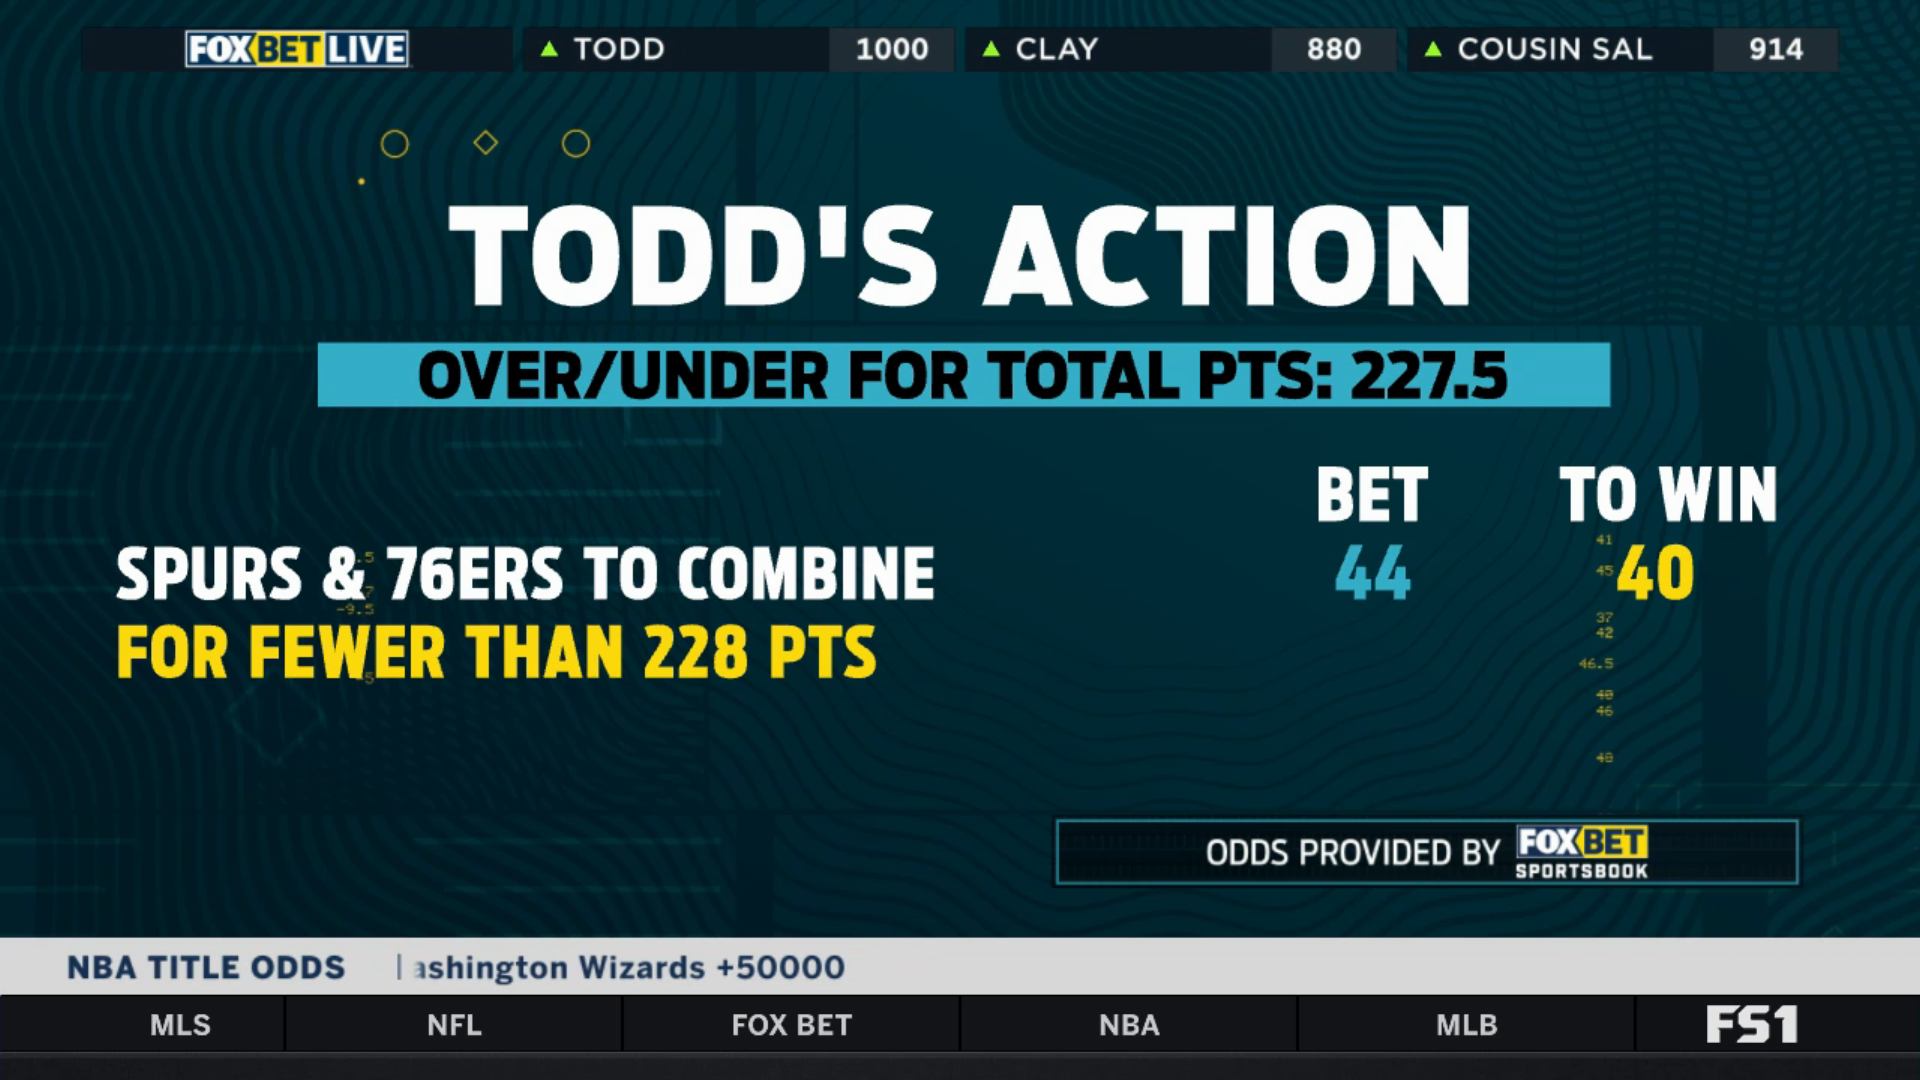Bet: (107, 533, 951, 700)
Bet Amount: (1307, 454, 1439, 616)
Subtitle: (305, 334, 1621, 417)
Title: (436, 193, 1487, 323)
To Win: (1547, 454, 1789, 616)
Top Bar: (69, 11, 1844, 80)
